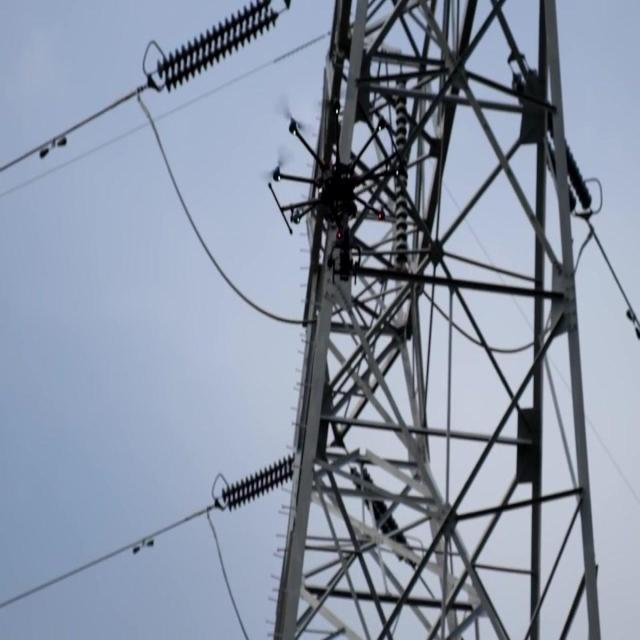drone: (267, 94, 403, 288)
